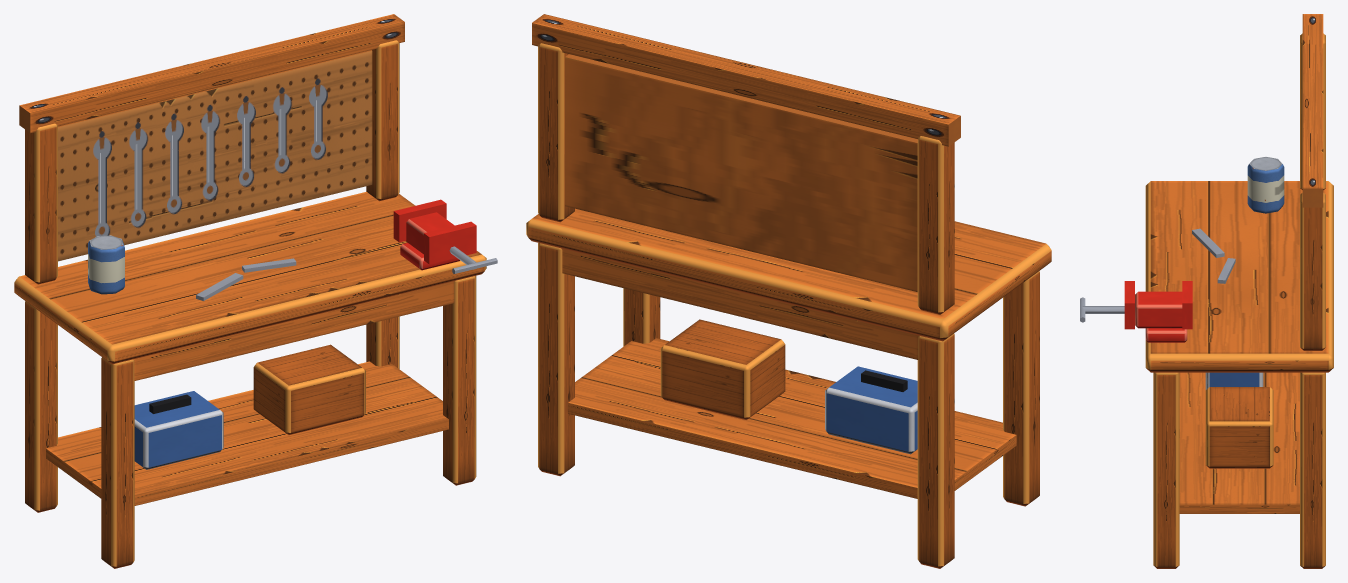
The model's file is Workbench.fbx.
3 renders of one model, left to right at view 1: azimuth 30°, elevation 25°; view 2: azimuth 150°, elevation 25°; view 3: azimuth 270°, elevation 25°, orthographic. The views are drawn at different scales.
Parts seen in each view (by area): view 1: Workbench_Body, Workbench_Items; view 2: Workbench_Body, Workbench_Items; view 3: Workbench_Body, Workbench_Items.
Boxes of the visible parts, x1,y1,x2,y2 form: Workbench_Body: (14, 14, 486, 568); Workbench_Items: (88, 199, 497, 469); Workbench_Body: (526, 14, 1051, 568); Workbench_Items: (660, 319, 917, 454); Workbench_Body: (1145, 14, 1333, 568); Workbench_Items: (1080, 156, 1284, 468).
Bounding box in the file's own units: 1.6 × 1.62 × 0.9704.
1 material, 1 textured.
